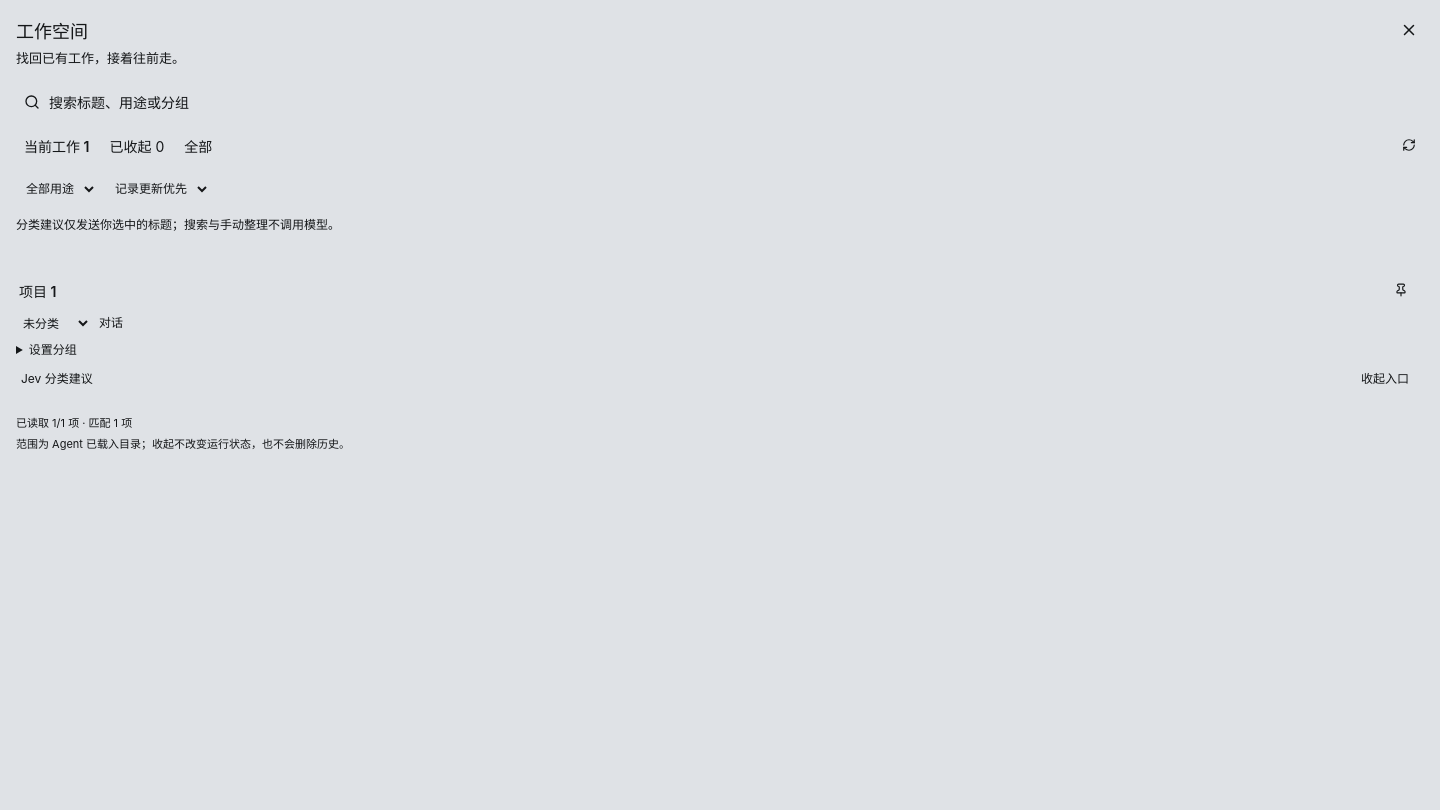
Test: OrganizationWorkspace v2.1 integration › syncs a changed stored group while retaining an edited field (edited: true)
Click the heading "设置分组" at (53, 349), box [29,342,77,356]
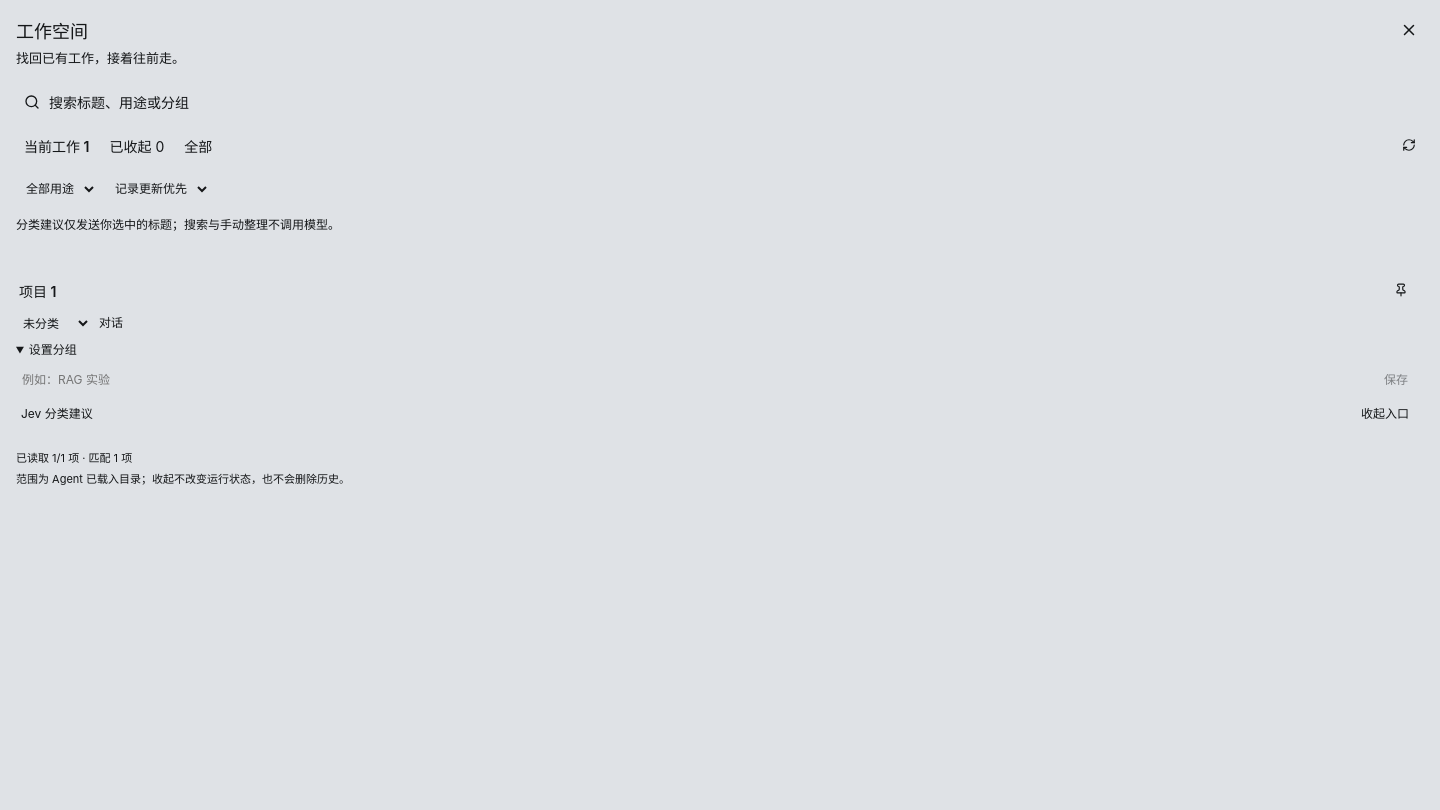
Type "尚未保存的分组" into the field named "项目 1的分组" at (694, 380), box [16,366,1372,394]
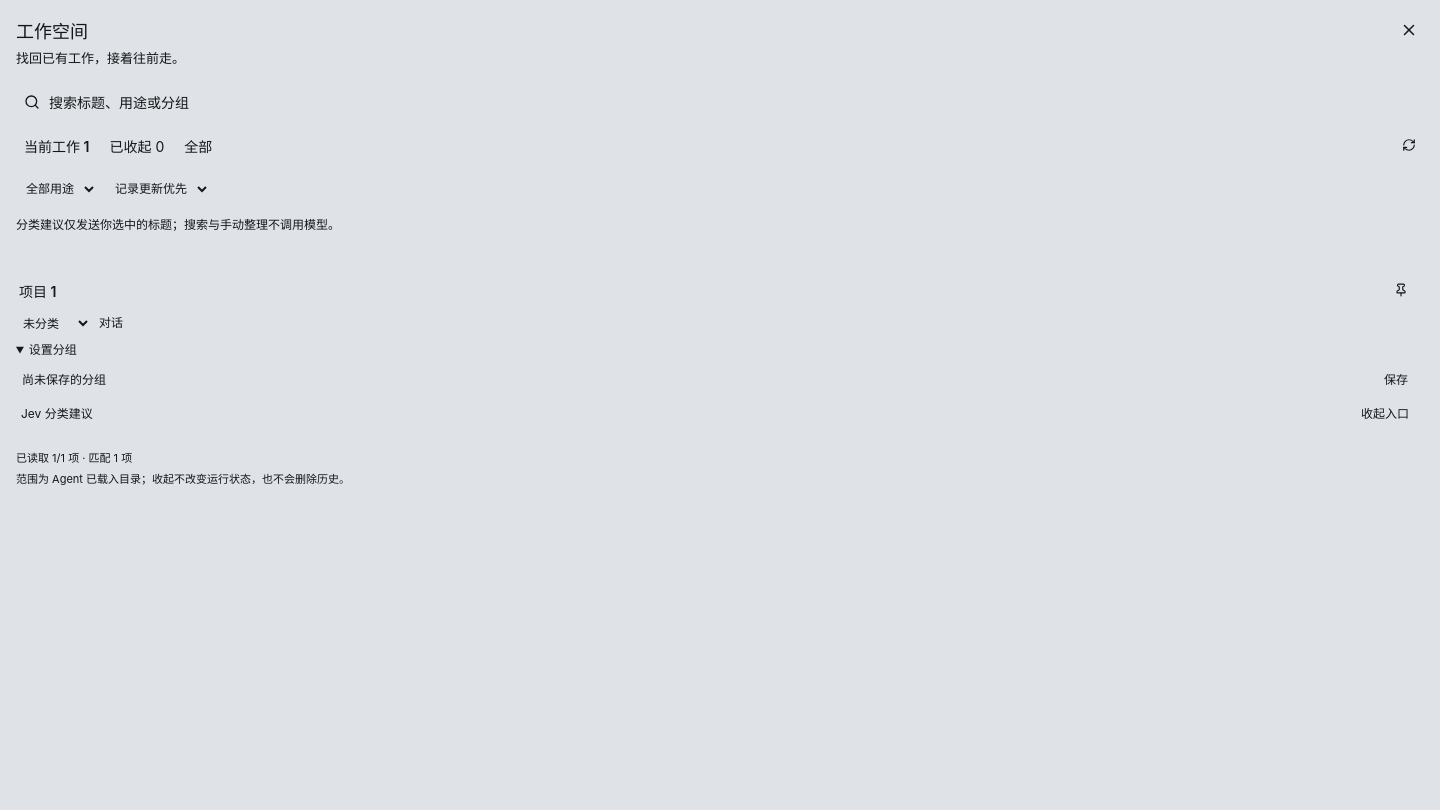
Click the button named "刷新工作目录" at (1409, 146), box [1394,132,1424,160]
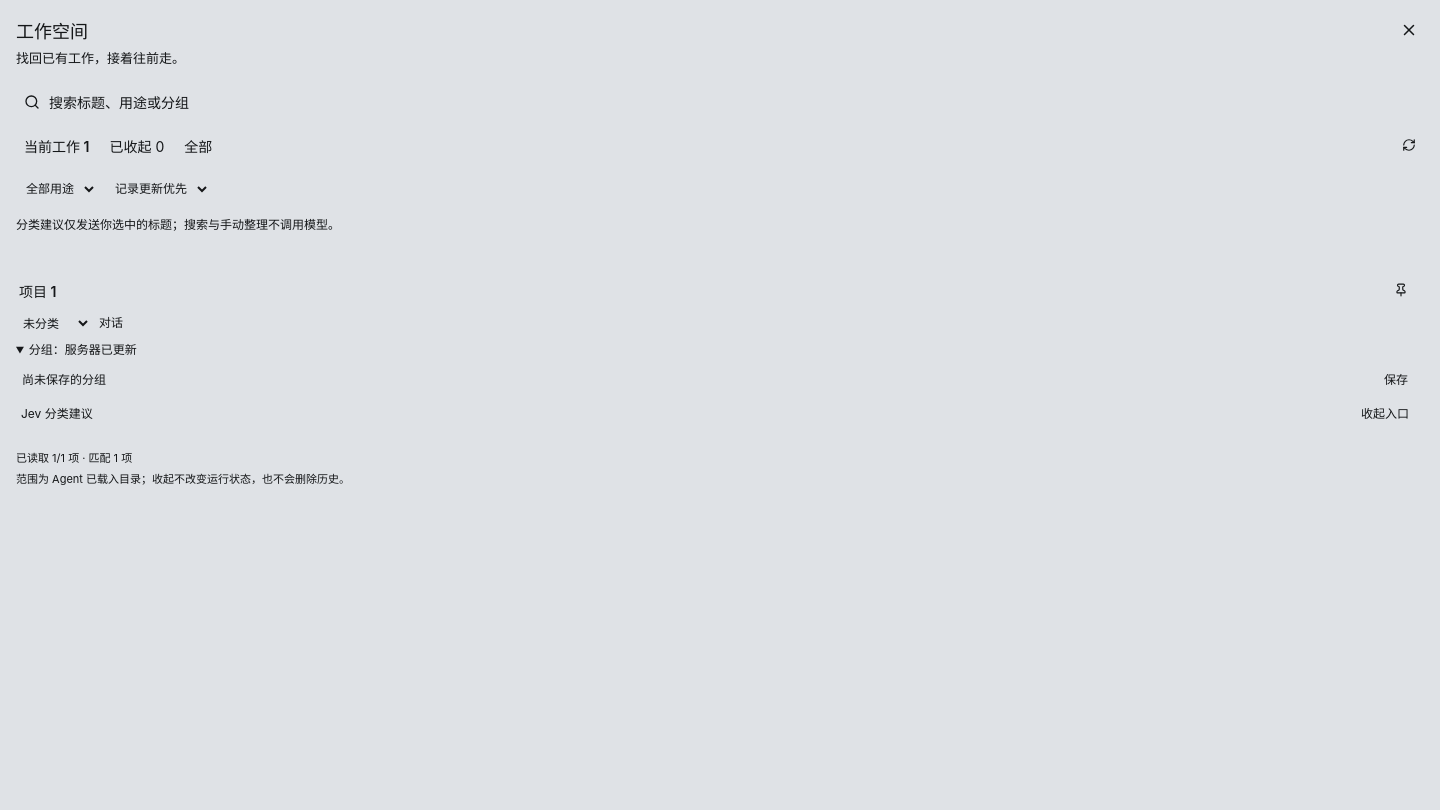
Expected: the heading "分组：服务器已更新" is shown, [29,342,137,356]
Click the button "保存" at (1396, 380), box [1378,366,1414,394]
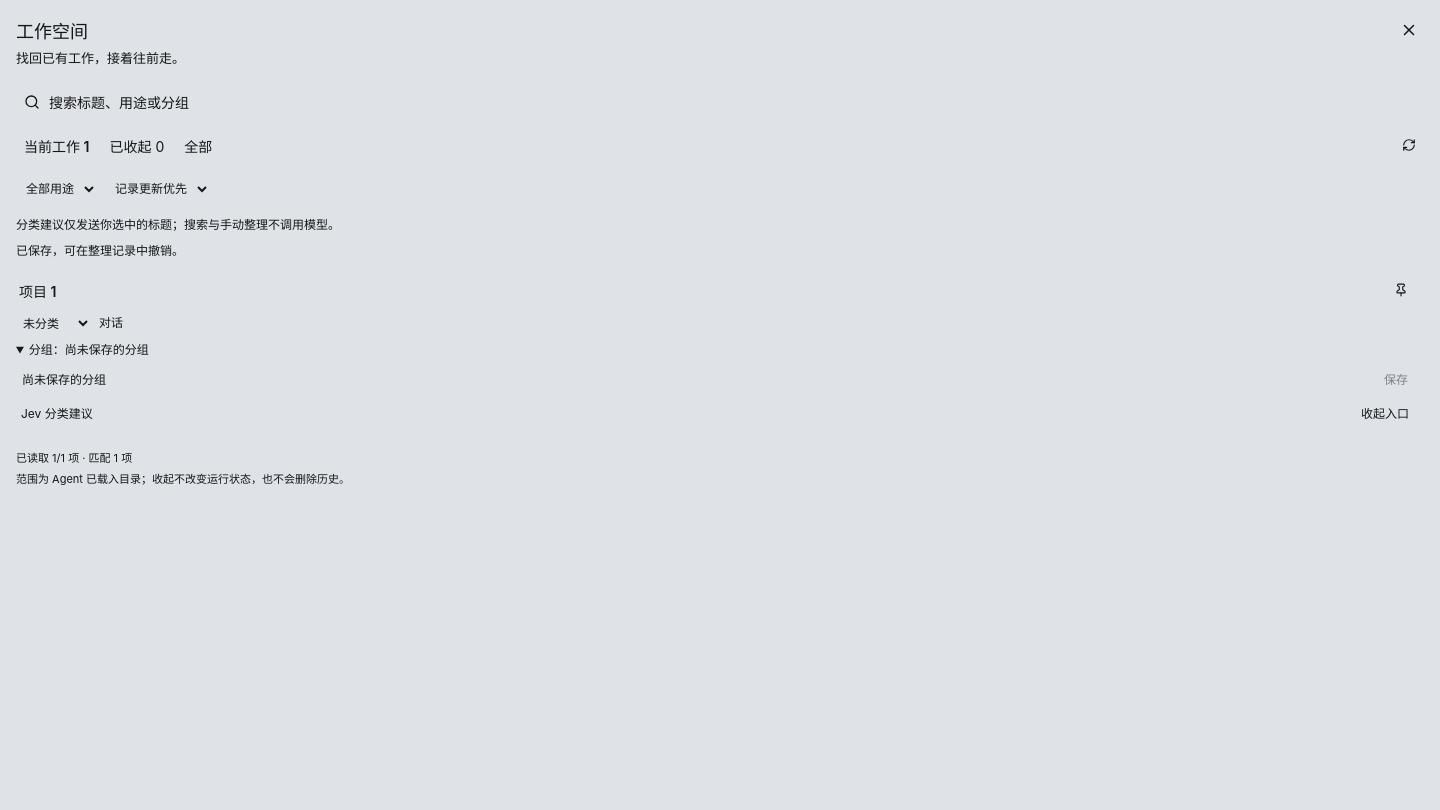
Expected: the heading "分组：尚未保存的分组" is shown, [29,342,149,356]
